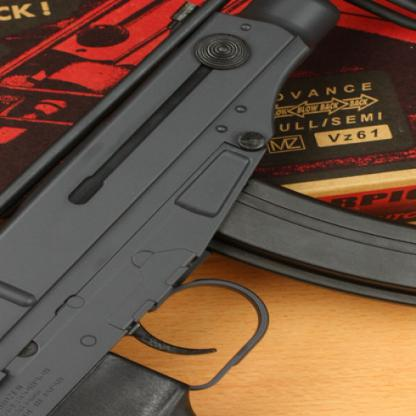gun: (0, 0, 415, 415), (0, 0, 416, 163)
